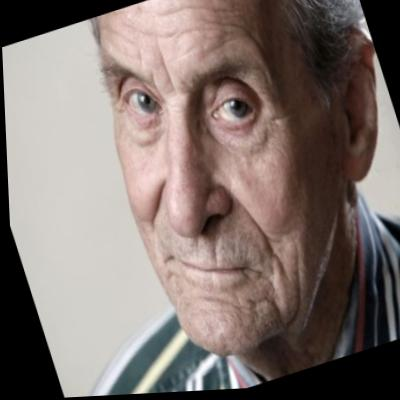netural: (79, 0, 382, 367)
